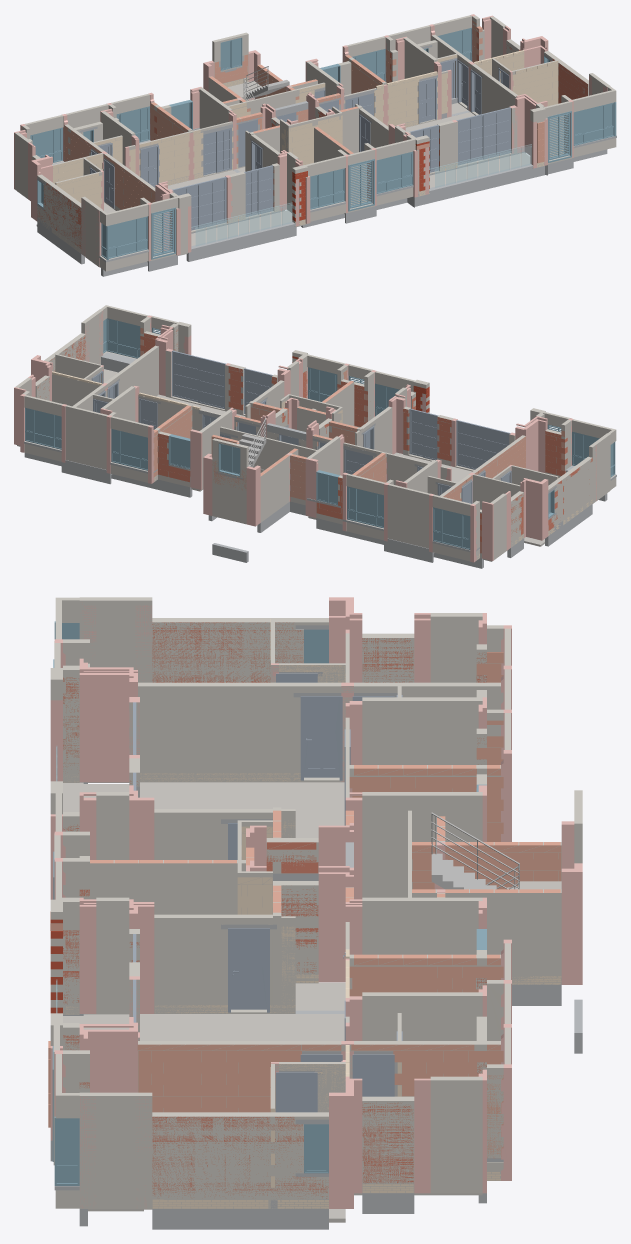
3 renders of one model, top to bottom at view 1: azimuth 30°, elevation 25°; view 2: azimuth 150°, elevation 25°; view 3: azimuth 270°, elevation 25°, orthographic. The views are drawn at different scales.
Parts seen in each view (by area): view 1: C_Q.001, C_W, C_M, C_Z.001, C_QC__T100, C_L, C_QC__T200, C_B, C_G, C_QC__T250, C_QT, C_QC__T300; view 2: C_Q.001, C_Z.001, C_W, C_M, C_L, C_QC__T200, C_QC__T250, C_B, C_QT, C_QC__T100; view 3: C_Q.001, C_Z.001, C_QC__T200, C_B, C_QC__T250, C_M, C_L, C_QC__T100, C_W, C_QT.
Boxes of the visible parts, left/top/right/bottom form: C_Q.001: left=15, top=15, right=616, bottom=271; C_W: left=30, top=27, right=616, bottom=260; C_M: left=90, top=59, right=510, bottom=230; C_Z.001: left=14, top=14, right=607, bottom=266; C_QC__T100: left=38, top=50, right=563, bottom=253; C_L: left=37, top=45, right=616, bottom=276; C_QC__T200: left=64, top=20, right=544, bottom=209; C_B: left=17, top=81, right=530, bottom=266; C_G: left=191, top=144, right=531, bottom=246; C_QC__T250: left=34, top=31, right=587, bottom=248; C_QT: left=90, top=55, right=500, bottom=177; C_QC__T300: left=292, top=141, right=429, bottom=221; C_Q.001: left=15, top=305, right=616, bottom=561; C_Z.001: left=14, top=310, right=596, bottom=562; C_W: left=25, top=318, right=615, bottom=549; C_M: left=92, top=350, right=511, bottom=503; C_L: left=24, top=352, right=616, bottom=568; C_QC__T200: left=140, top=328, right=564, bottom=501; C_QC__T250: left=37, top=329, right=592, bottom=553; C_B: left=17, top=369, right=606, bottom=561; C_QT: left=202, top=376, right=461, bottom=497; C_QC__T100: left=52, top=371, right=592, bottom=559; C_Q.001: left=50, top=597, right=582, bottom=1208; C_Z.001: left=50, top=597, right=582, bottom=1208; C_QC__T200: left=48, top=652, right=561, bottom=1158; C_B: left=63, top=782, right=561, bottom=1222; C_QC__T250: left=63, top=622, right=486, bottom=1198; C_M: left=133, top=673, right=402, bottom=1112; C_L: left=50, top=625, right=582, bottom=1229; C_QC__T100: left=64, top=619, right=561, bottom=1208; C_W: left=52, top=621, right=486, bottom=1185; C_QT: left=136, top=786, right=519, bottom=1096.
Size of the model in its own units: 28.4 by 6.1 by 12.85.
